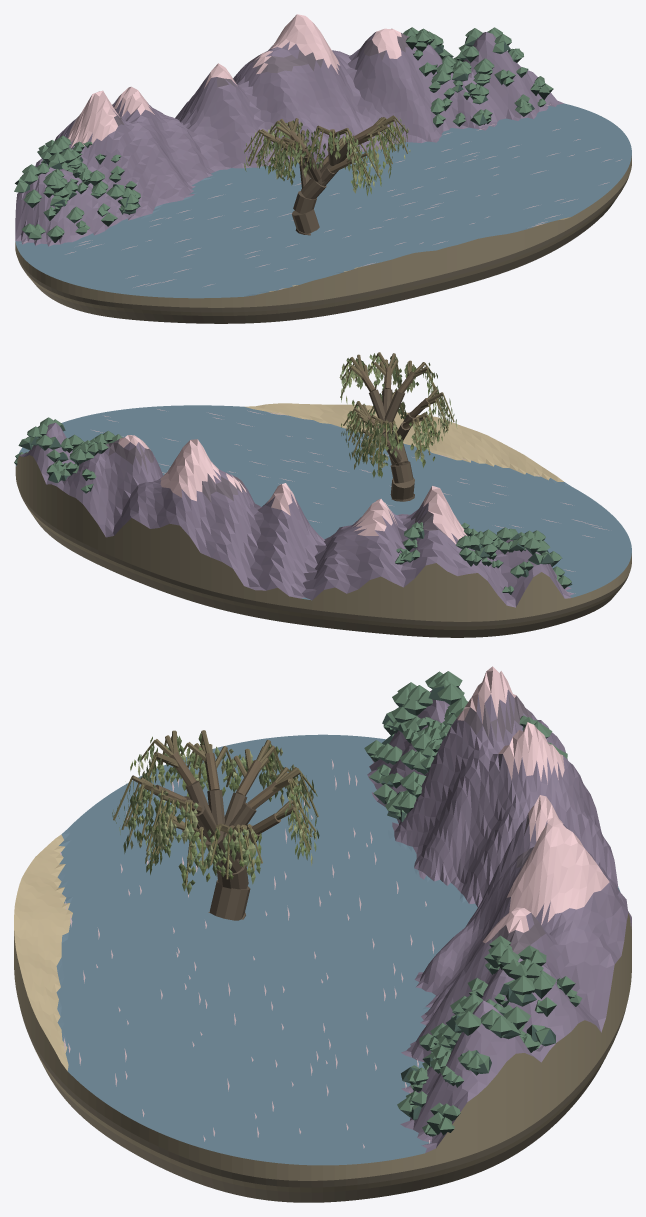
File: wanaka-evening.glb
3 views of the same model, one above another, from view 1: azimuth 30°, elevation 25°; view 2: azimuth 150°, elevation 25°; view 3: azimuth 270°, elevation 25° (orthographic). The views are drawn at different scales.
Visible parts, largest first — view 1: Sculpted shoreline and ridges, Shore planting and reflections, LoneTree; view 2: Sculpted shoreline and ridges, LoneTree, Shore planting and reflections; view 3: Sculpted shoreline and ridges, Shore planting and reflections, LoneTree.
Part boxes in pixels (x1,y1,x2,y2): Sculpted shoreline and ridges: [15, 14, 631, 323]; Shore planting and reflections: [14, 27, 621, 289]; LoneTree: [244, 115, 410, 235]; Sculpted shoreline and ridges: [15, 403, 631, 637]; LoneTree: [339, 352, 457, 501]; Shore planting and reflections: [14, 409, 608, 594]; Sculpted shoreline and ridges: [14, 666, 631, 1202]; Shore planting and reflections: [60, 671, 582, 1148]; LoneTree: [112, 730, 319, 920].
Size of the model in its own units: 9.4 by 2.31 by 5.7.
